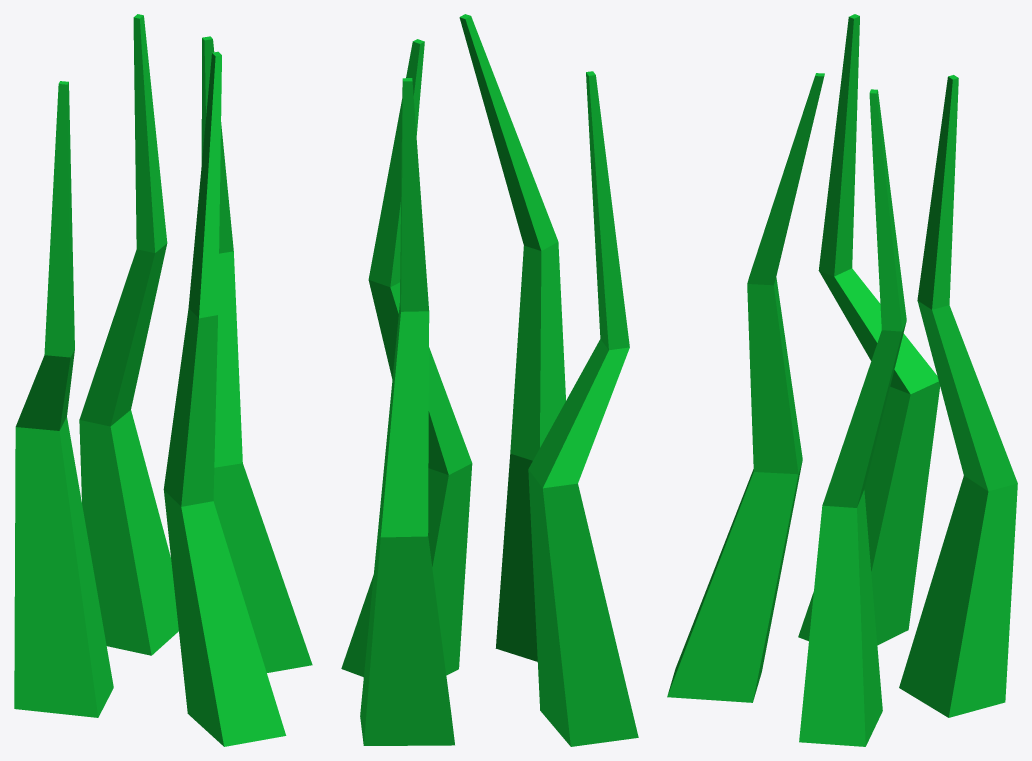
Rendered from Grass1.fbx.
The picture shows the model from 3 angles, left to right: view 1: azimuth 30°, elevation 25°; view 2: azimuth 150°, elevation 25°; view 3: azimuth 270°, elevation 25°; orthographic projection. The views are drawn at different scales.
Visible parts, largest first — view 1: Cube.003, Cube.001, Cube, Cube.002; view 2: Cube.003, Cube, Cube.001, Cube.002; view 3: Cube, Cube.001, Cube.002, Cube.003.
Part boxes in pixels (x1=…): Cube.003: x1=14, y1=81, x2=113, y2=717; Cube.001: x1=163, y1=51, x2=286, y2=746; Cube: x1=79, y1=14, x2=178, y2=655; Cube.002: x1=201, y1=36, x2=312, y2=672; Cube.003: x1=528, y1=71, x2=638, y2=746; Cube: x1=360, y1=78, x2=454, y2=745; Cube.001: x1=459, y1=14, x2=565, y2=661; Cube.002: x1=341, y1=39, x2=472, y2=677; Cube: x1=899, y1=75, x2=1017, y2=717; Cube.001: x1=667, y1=73, x2=824, y2=702; Cube.002: x1=799, y1=89, x2=906, y2=746; Cube.003: x1=798, y1=14, x2=940, y2=645.
Size of the model in its own units: 94.52 by 203 by 103.
